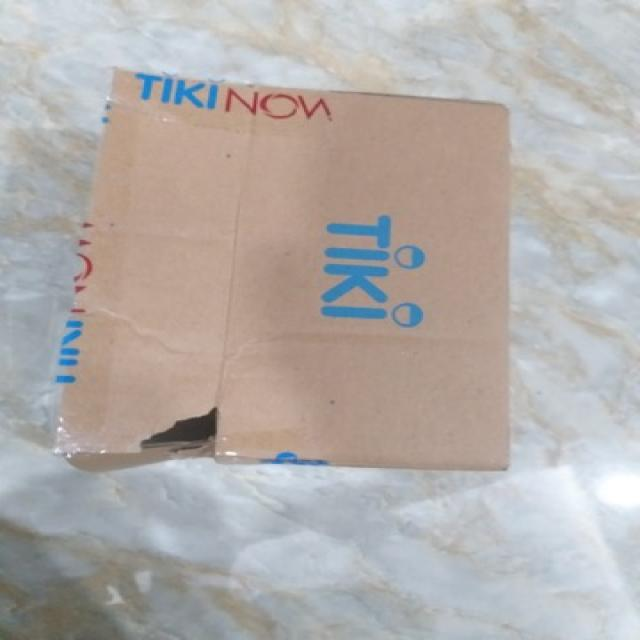PaperCardboard: (67, 70, 500, 477)
